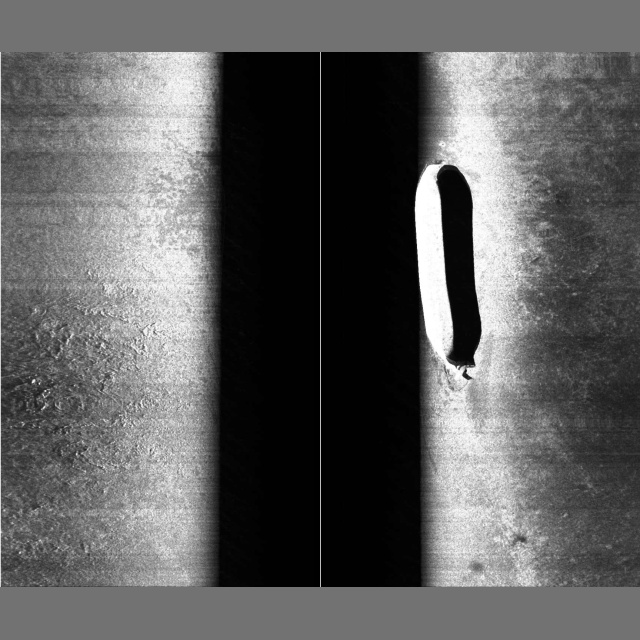Shipwreck: (414, 160, 476, 382)
